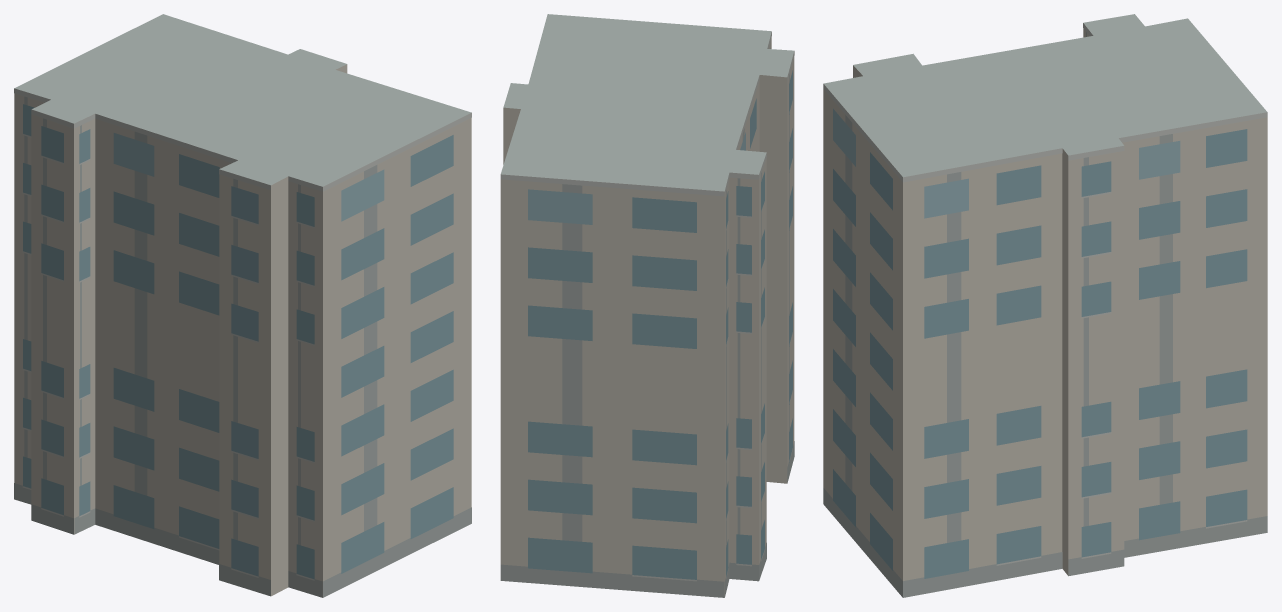
Rendered from survey-upis-32863115.glb.
3 views of the same model, side by side, from view 1: azimuth 30°, elevation 25°; view 2: azimuth 150°, elevation 25°; view 3: azimuth 270°, elevation 25° (orthographic). The views are drawn at different scales.
Parts seen in each view (by area): view 1: survey-upis-32863115.tmp; view 2: survey-upis-32863115.tmp; view 3: survey-upis-32863115.tmp.
Boxes of the visible parts, <box> form: survey-upis-32863115.tmp: <box>14,14,471,597</box>; survey-upis-32863115.tmp: <box>500,14,794,597</box>; survey-upis-32863115.tmp: <box>823,14,1267,597</box>.
Size of the model in its own units: 16.66 by 20 by 19.15.
